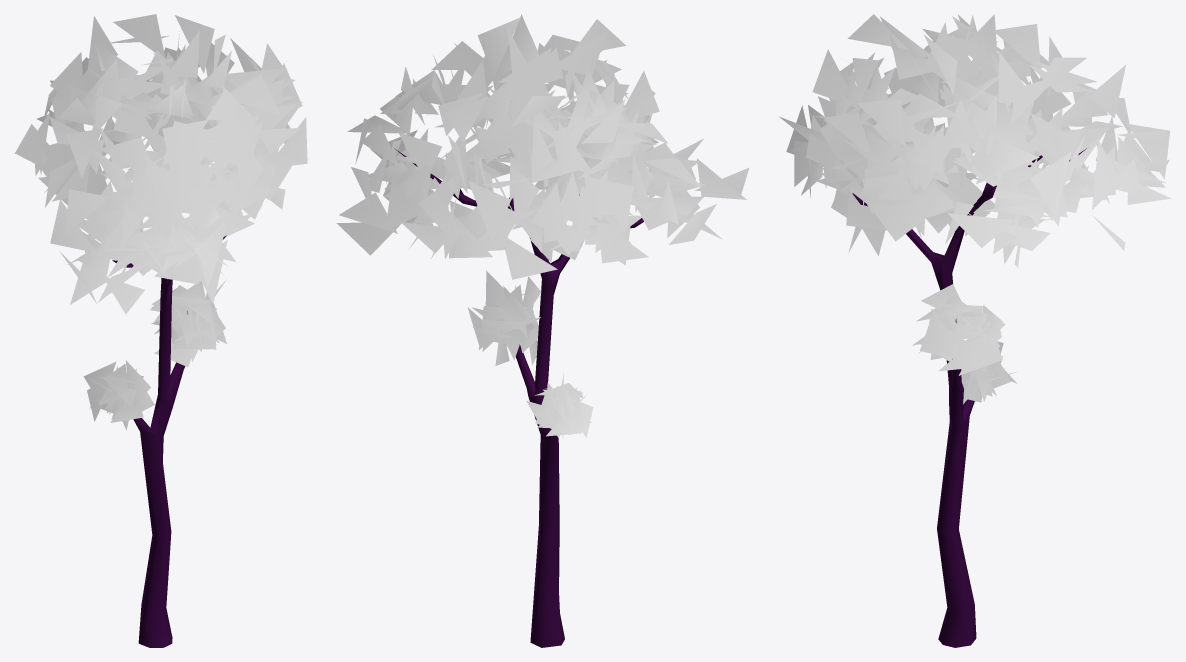
The model's file is m_TreeHigh3_LOD2.fbx.
3 renders of one model, left to right at view 1: azimuth 30°, elevation 25°; view 2: azimuth 150°, elevation 25°; view 3: azimuth 270°, elevation 25°, orthographic. The views are drawn at different scales.
Parts seen in each view (by area): view 1: TreeHigh3_LOD2; view 2: TreeHigh3_LOD2; view 3: TreeHigh3_LOD2.
Boxes of the visible parts, left/top/right/bottom form: TreeHigh3_LOD2: left=14, top=14, right=307, bottom=647; TreeHigh3_LOD2: left=336, top=14, right=749, bottom=647; TreeHigh3_LOD2: left=779, top=14, right=1170, bottom=647.
Size of the model in its own units: 1640 by 3243 by 1842.
